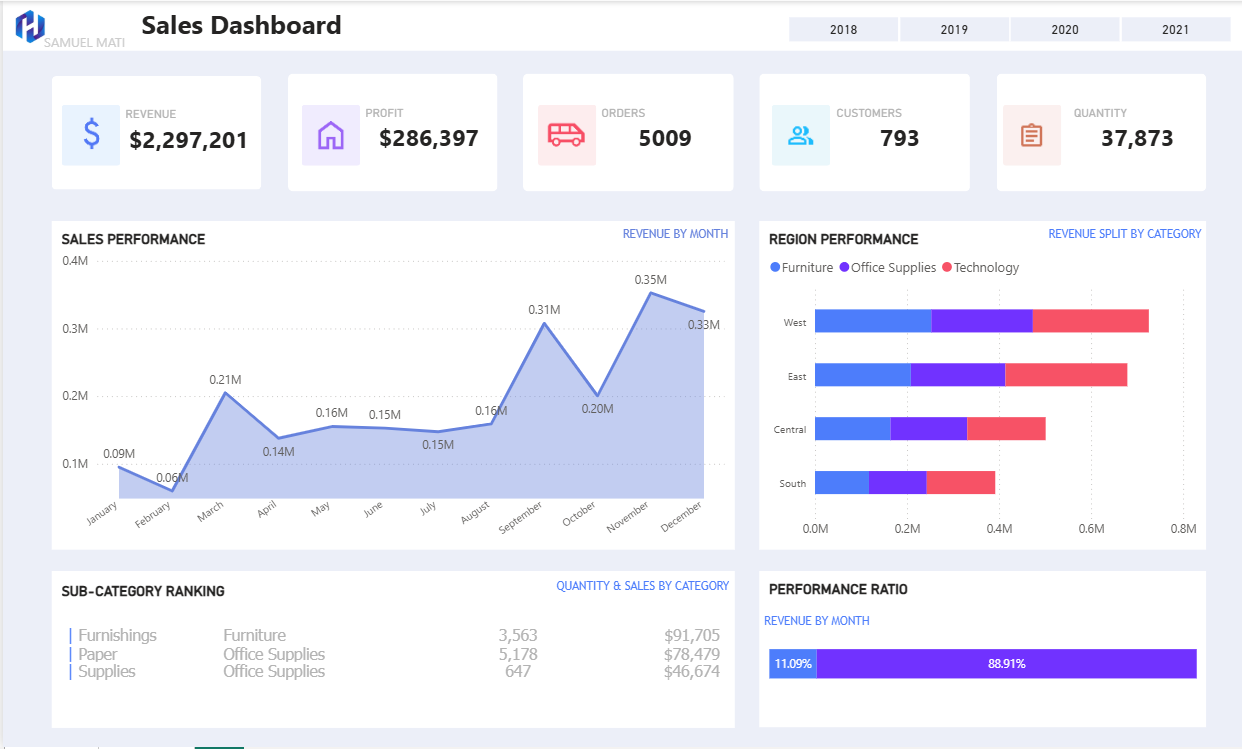

This screenshot's page, from the dashboard's own definition file:
{"tool":"powerbi","page":{"name":"Page 1","canvas":[1280,768],"ordinal":0},"visuals":[{"type":"shape","box":[0,0,1280.2,51.3],"z":0},{"type":"textbox","box":[137.5,0,301.2,50],"z":1000},{"type":"advancedSlicerVisual","fields":{"Values":["Orders.Order Date.Variation.Date Hierarchy.Year"]},"box":[809.4,16.7,455.4,25],"z":2000},{"type":"shape","box":[50,77.4,215.7,117.1],"z":3000},{"type":"shape","box":[1022.9,74.1,215.7,121.4],"z":4000},{"type":"shape","box":[292.9,74.1,215.7,121.4],"z":5000},{"type":"shape","box":[535.7,74.1,217.1,121.4],"z":6000},{"type":"shape","box":[778.6,74.1,217.1,121.4],"z":7000},{"type":"card","title":"      REVENUE","fields":{"Values":["Metrics.Formatted Revenue"]},"box":[121.2,109.1,141.2,53.8],"z":8000},{"type":"card","title":"      PROFIT","fields":{"Values":["Metrics.Formatted Profit"]},"box":[367.5,108,141.2,53.8],"z":9000},{"type":"card","title":"      ORDERS","fields":{"Values":["Metrics.Total Orders"]},"box":[611.2,108,141.2,53.8],"z":10000},{"type":"card","title":"      CUSTOMERS","fields":{"Values":["Metrics.Total Customers"]},"box":[853.8,108,141.2,53.8],"z":11000},{"type":"card","title":"      QUANTITY","fields":{"Values":["Metrics.Formatted Quantity"]},"box":[1097.5,108,141.2,53.8],"z":12000},{"type":"areaChart","title":"SALES PERFORMANCE","fields":{"Y":["Sum(Orders.Sales)"],"Category":["Orders.Order Date.Variation.Date Hierarchy.Month"]},"box":[50,226.1,702.9,338.6],"z":13000},{"type":"barChart","title":"REGION PERFORMANCE","fields":{"Category":["Orders.Region"],"Y":["Sum(Orders.Sales)"],"Series":["Orders.Category"]},"box":[778.6,226.1,460,338.6],"z":14000},{"type":"tableEx","title":"SUB-CATEGORY RANKING","fields":{"Values":["Orders.Styled SubCategory","Orders.Sub-Category","Orders.Category","Metrics.Formatted Quantity","Metrics.Formatted Revenue"]},"box":[50,587.1,702.9,161.4],"z":15000},{"type":"hundredPercentStackedBarChart","title":"PERFORMANCE RATIO","fields":{"Y":["Metrics.Revenue vs Profit %"],"Series":["RevenueProfitMetric.Metric"]},"box":[779,587,460,161],"z":16000},{"type":"textbox","box":[610,225.7,141.4,34.3],"z":17000},{"type":"textbox","box":[1037.1,225.7,201.4,34.3],"z":18000},{"type":"textbox","box":[778.6,622.9,145.7,34.3],"z":19000},{"type":"textbox","box":[508.6,587.1,244.3,35.7],"z":20000},{"type":"shape","box":[61.1,106.9,60.2,62.8],"z":21000},{"type":"shape","box":[307.1,106.9,60.2,62.8],"z":22000},{"type":"shape","box":[551.3,106.9,60.2,62.8],"z":23000},{"type":"shape","box":[791.2,106.9,60.2,62.8],"z":24000},{"type":"shape","box":[1030.1,106.9,60.2,62.8],"z":25000},{"type":"image","box":[65,111.2,51.2,51.2],"z":26000},{"type":"image","box":[550,113.8,60,50],"z":27000},{"type":"image","box":[313.8,115,47.5,47.5],"z":28000},{"type":"image","box":[801.2,120,38.8,37.5],"z":29000},{"type":"image","box":[1040,116.2,38.8,46.2],"z":30000},{"type":"image","box":[6.2,0,43.8,51.2],"z":31000},{"type":"textbox","box":[37.5,28.8,300,35],"z":32000},{"type":"textbox","box":[682,14.2,127.4,29.6],"z":32001}]}

Visuals, with their boxes in screenshot pixels (x1, y1, x2, y2), scaled from the page's 1280x768 canvas onto the 1242x749 screenshot:
shape: crop(0, 0, 1241, 50)
textbox: crop(133, 0, 426, 49)
advancedSlicerVisual - Orders.Order Date.Variation.Date Hierarchy.Year: crop(785, 16, 1227, 41)
shape: crop(49, 75, 258, 190)
shape: crop(993, 72, 1202, 191)
shape: crop(284, 72, 494, 191)
shape: crop(520, 72, 730, 191)
shape: crop(755, 72, 966, 191)
"      REVENUE" card: crop(118, 106, 255, 159)
"      PROFIT" card: crop(357, 105, 494, 158)
"      ORDERS" card: crop(593, 105, 730, 158)
"      CUSTOMERS" card: crop(828, 105, 965, 158)
"      QUANTITY" card: crop(1065, 105, 1202, 158)
"SALES PERFORMANCE" areaChart: crop(49, 221, 731, 551)
"REGION PERFORMANCE" barChart: crop(755, 221, 1202, 551)
"SUB-CATEGORY RANKING" tableEx: crop(49, 573, 731, 730)
"PERFORMANCE RATIO" hundredPercentStackedBarChart: crop(756, 572, 1202, 729)
textbox: crop(592, 220, 729, 254)
textbox: crop(1006, 220, 1202, 254)
textbox: crop(755, 607, 897, 641)
textbox: crop(494, 573, 731, 607)
shape: crop(59, 104, 118, 166)
shape: crop(298, 104, 356, 166)
shape: crop(535, 104, 593, 166)
shape: crop(768, 104, 826, 166)
shape: crop(1000, 104, 1058, 166)
image: crop(63, 108, 113, 158)
image: crop(534, 111, 592, 160)
image: crop(304, 112, 351, 158)
image: crop(777, 117, 815, 154)
image: crop(1009, 113, 1047, 158)
image: crop(6, 0, 49, 50)
textbox: crop(36, 28, 327, 62)
textbox: crop(662, 14, 785, 43)
